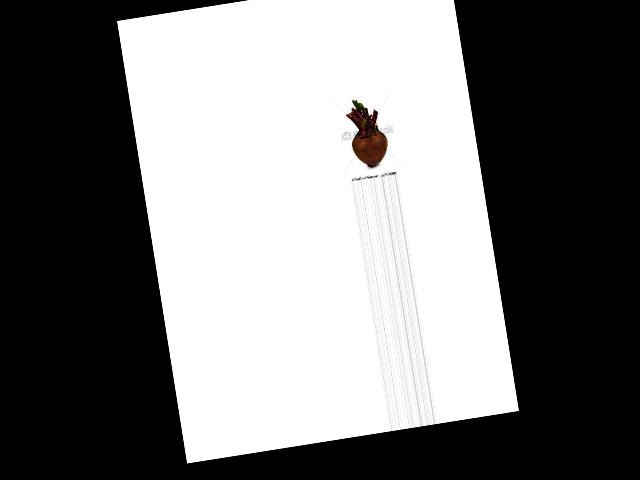beet: (344, 96, 391, 169)
